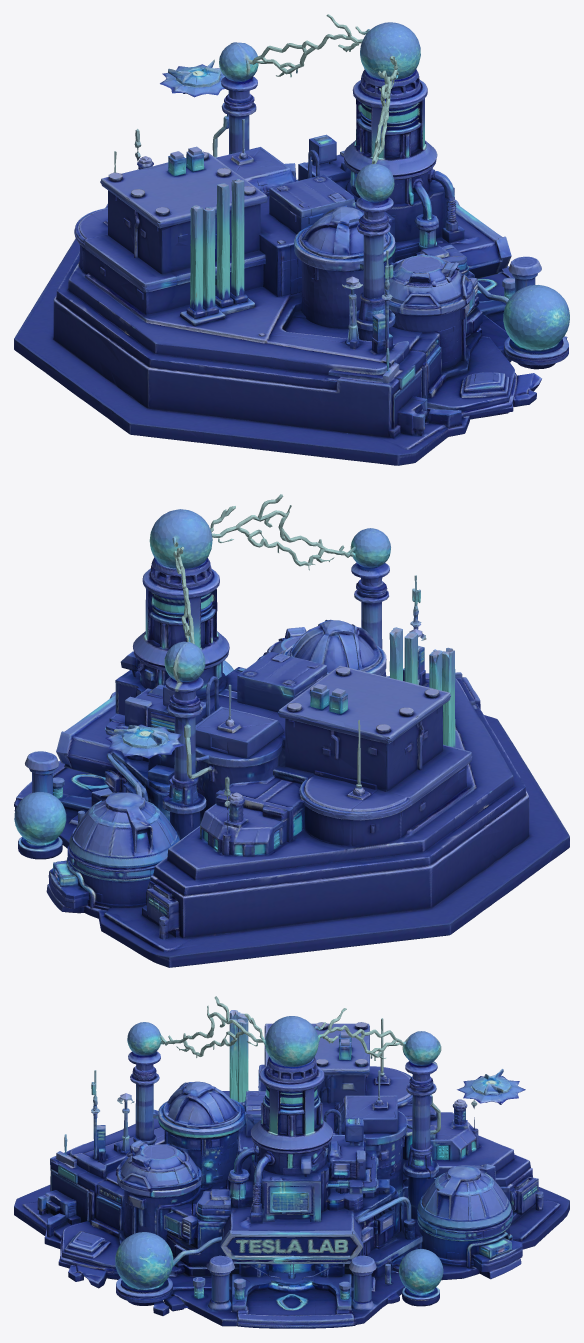
Rendered from tesla.glb.
3 views of the same model, one above another, from view 1: azimuth 30°, elevation 25°; view 2: azimuth 150°, elevation 25°; view 3: azimuth 270°, elevation 25° (orthographic). The views are drawn at different scales.
Parts seen in each view (by area): view 1: tripo_node_39bd50ce-7f27-48ff-9b5b-dd5ed909ca84; view 2: tripo_node_39bd50ce-7f27-48ff-9b5b-dd5ed909ca84; view 3: tripo_node_39bd50ce-7f27-48ff-9b5b-dd5ed909ca84.
Part boxes in pixels (x1,y1,x2,y2): tripo_node_39bd50ce-7f27-48ff-9b5b-dd5ed909ca84: [14, 14, 569, 465]; tripo_node_39bd50ce-7f27-48ff-9b5b-dd5ed909ca84: [14, 494, 569, 967]; tripo_node_39bd50ce-7f27-48ff-9b5b-dd5ed909ca84: [14, 996, 569, 1328].
Bounding box in the file's own units: 0.8045 × 0.4942 × 0.9791.
1 material, 1 textured.
